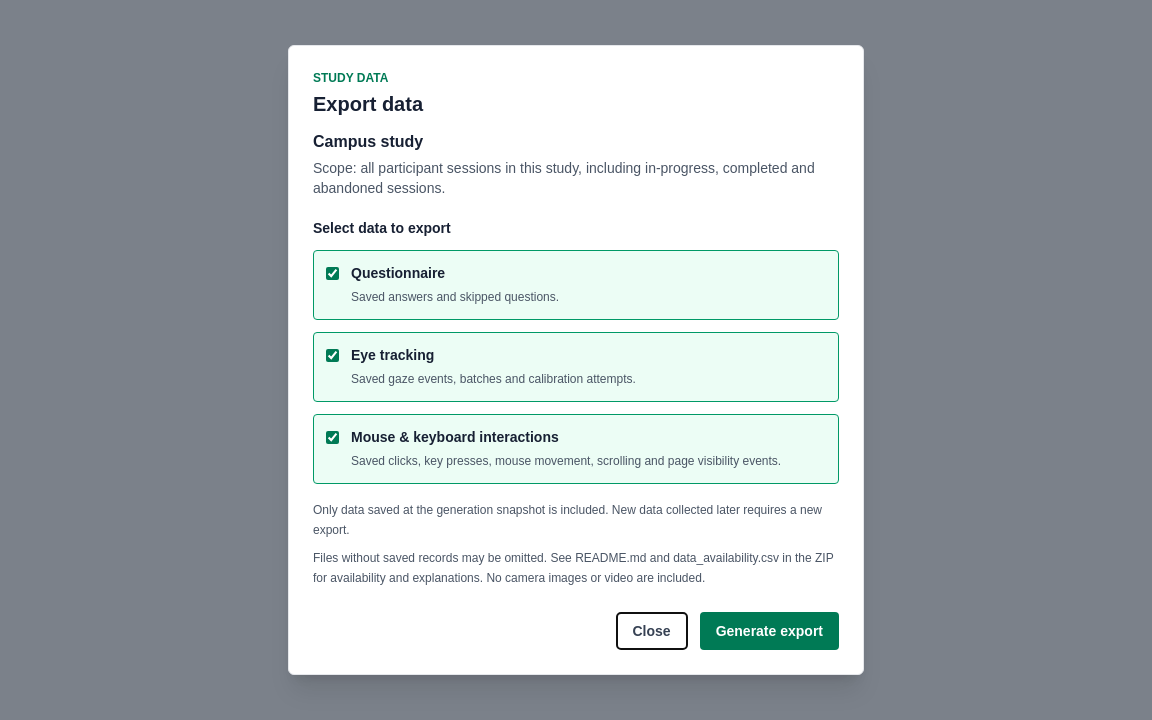
Study export dialog › checks the latest lifecycle and refuses a study that is now draft
The width and height of the screenshot is (1152, 720).
Click the button "Generate export" at (769, 631), box [700,612,839,650]
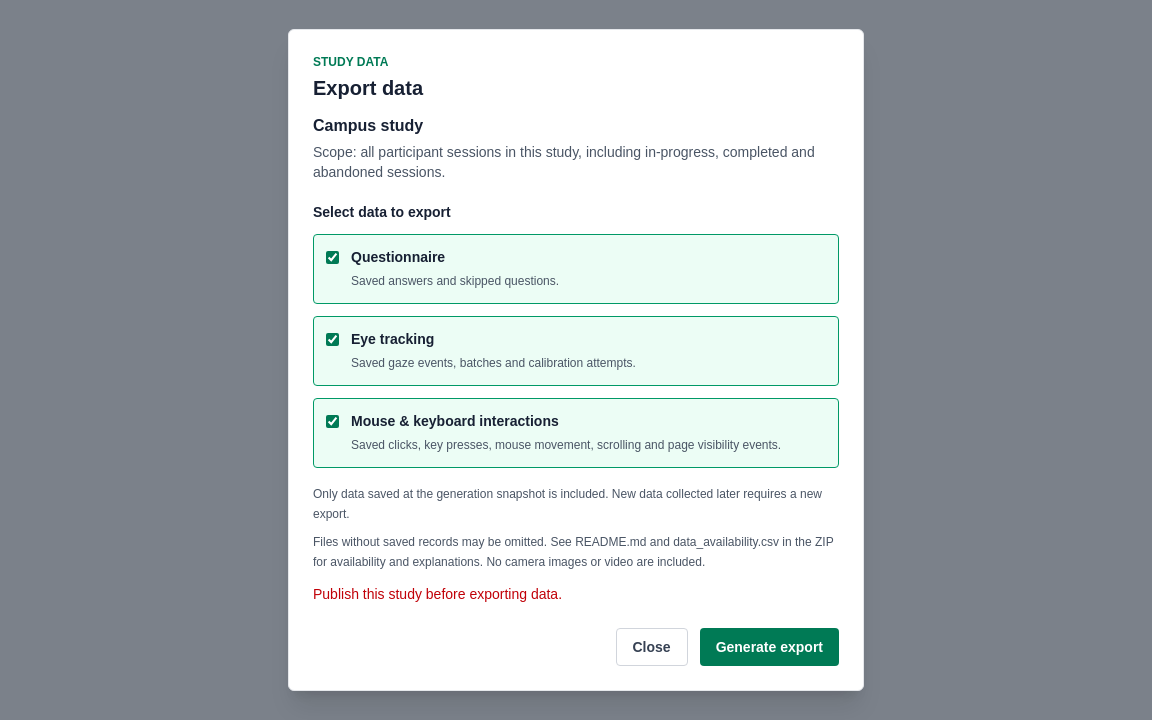
Now the text "Publish this study before exporting data." is shown, box [313,586,562,602]
